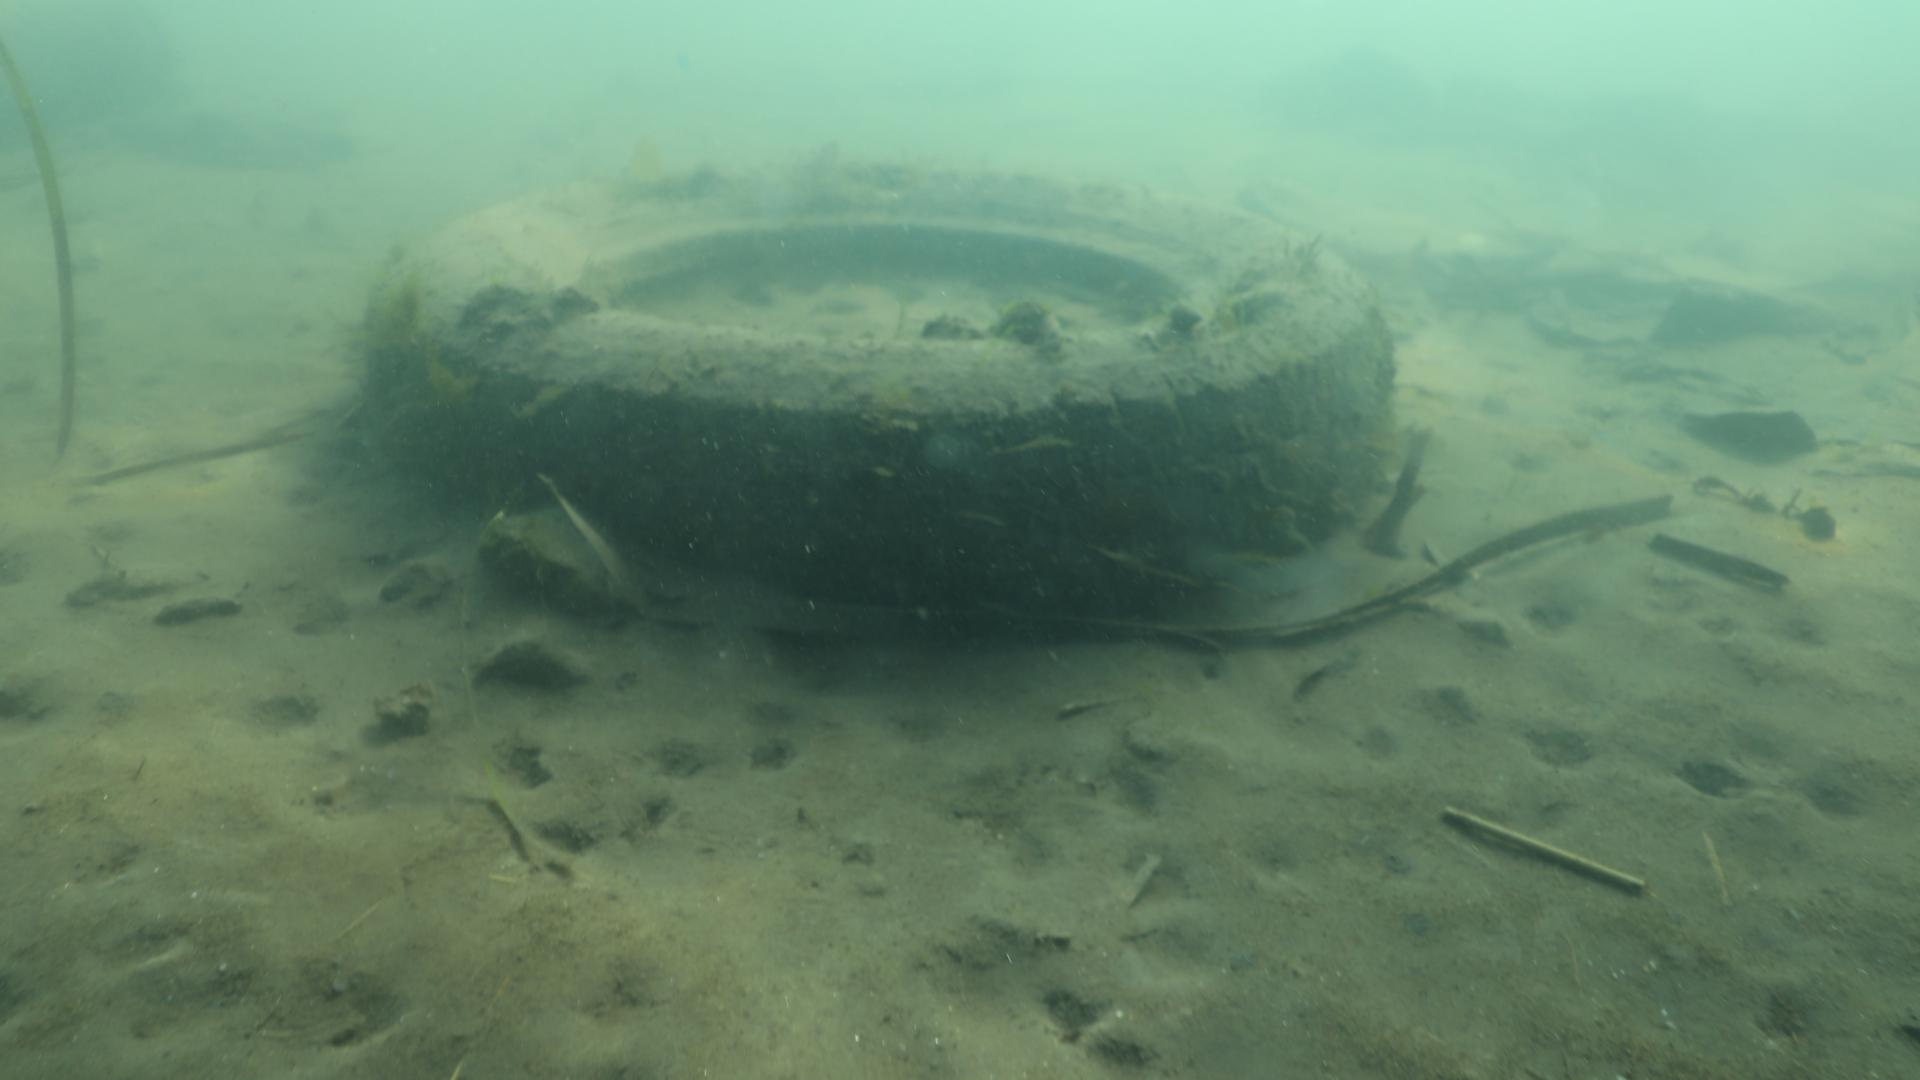tire: (363, 160, 1393, 632)
